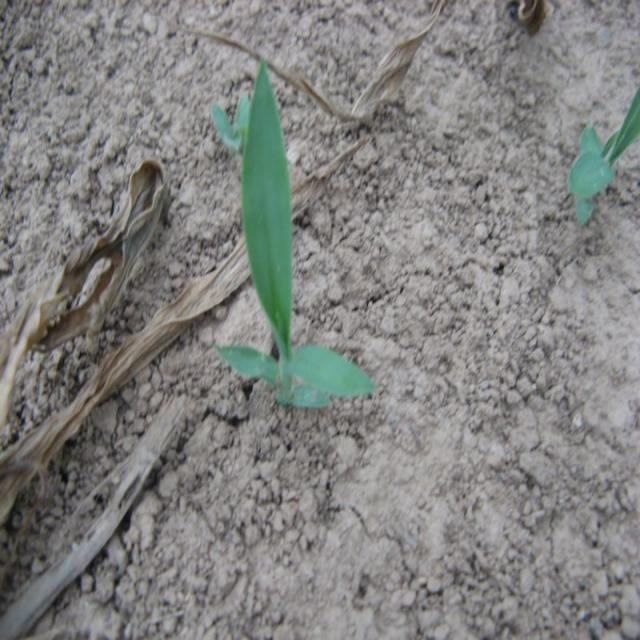bg: (214, 63, 376, 420)
